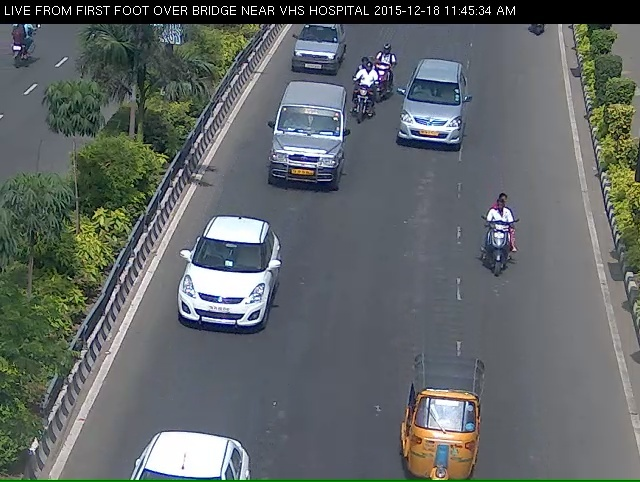Auto: (395, 374, 495, 480)
Car: (166, 225, 285, 370), (390, 58, 480, 166), (258, 100, 345, 208), (286, 21, 342, 87)
Person: (485, 204, 520, 291), (344, 75, 372, 138), (368, 55, 389, 106)
